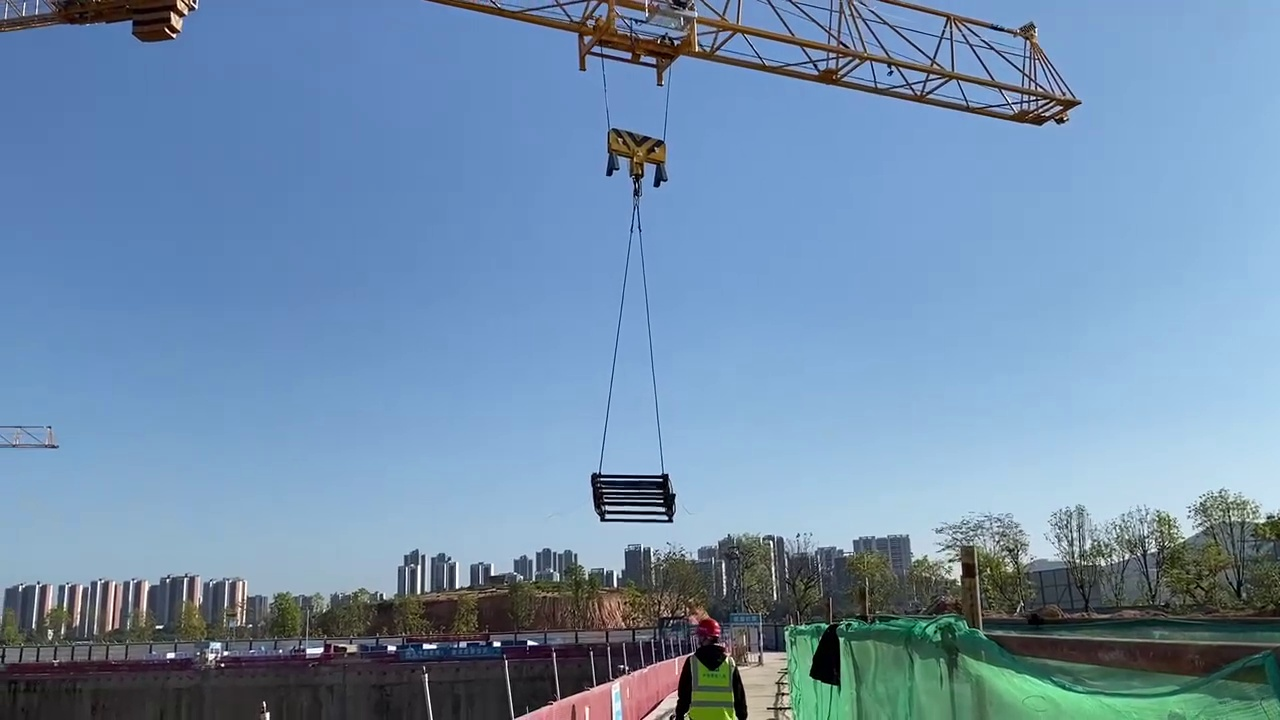fence: (523, 653, 665, 720)
helmet: (695, 618, 724, 637)
hook: (604, 123, 670, 184)
person: (671, 619, 748, 720)
vest: (688, 649, 733, 720)
